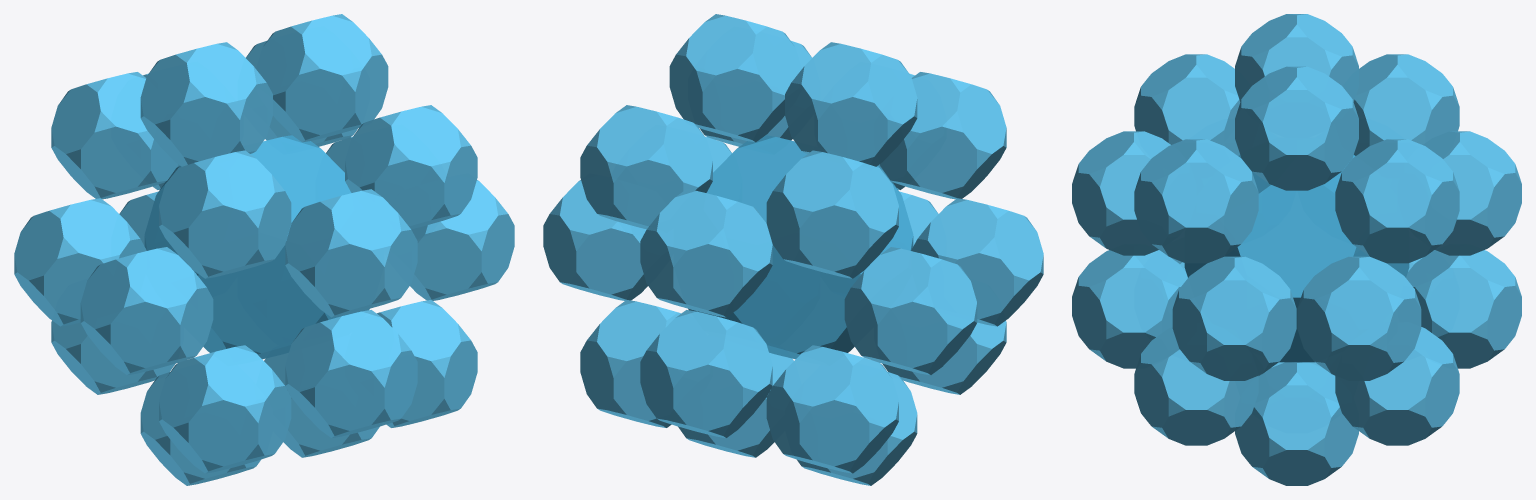
Rendered from fractaltruncateddodecahedron1.glb.
The picture shows the model from 3 angles, left to right: view 1: azimuth 30°, elevation 25°; view 2: azimuth 150°, elevation 25°; view 3: azimuth 270°, elevation 25°; orthographic projection. The views are drawn at different scales.
Bounding box in the file's own units: 11.69 × 11.69 × 11.69.
